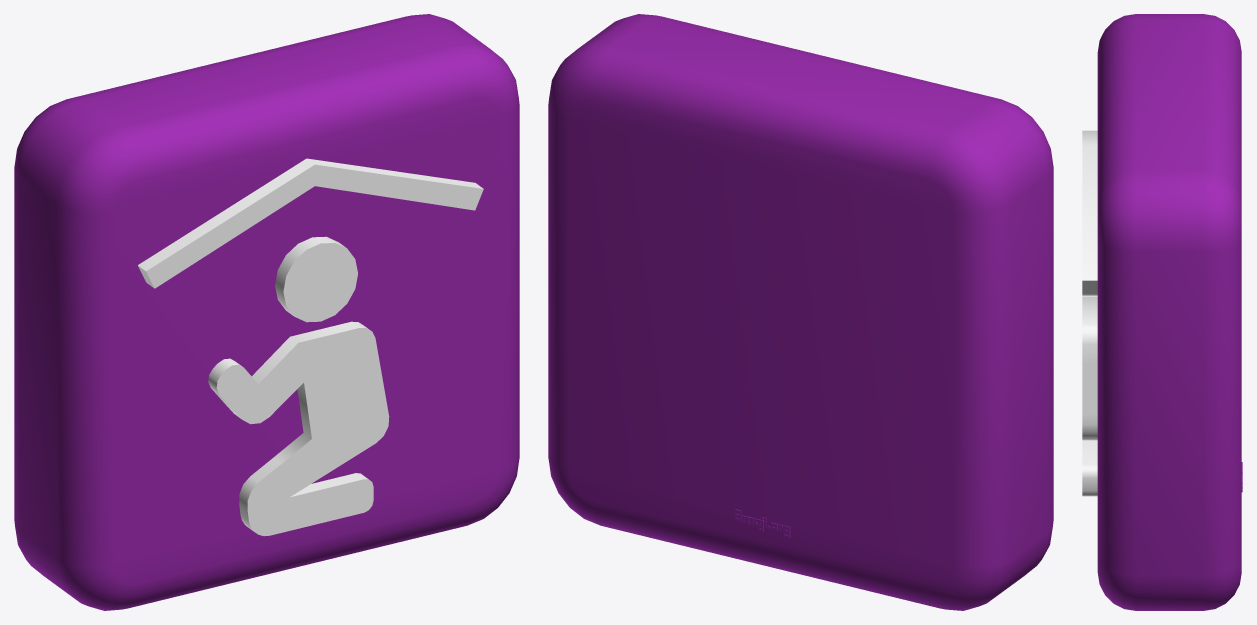
File: place_of_worship.glb
3 views of the same model, side by side, from view 1: azimuth 30°, elevation 25°; view 2: azimuth 150°, elevation 25°; view 3: azimuth 270°, elevation 25° (orthographic). The views are drawn at different scales.
Parts seen in each view (by area): view 1: Cube.6384; view 2: Cube.6384; view 3: Cube.6384.
Part boxes in pixels (left/top/right/bottom): Cube.6384: left=14, top=14, right=519, bottom=610; Cube.6384: left=548, top=14, right=1053, bottom=610; Cube.6384: left=1082, top=14, right=1242, bottom=610.
Size of the model in its own units: 2.2 by 2.2 by 0.7337.
1 material, 1 textured.
